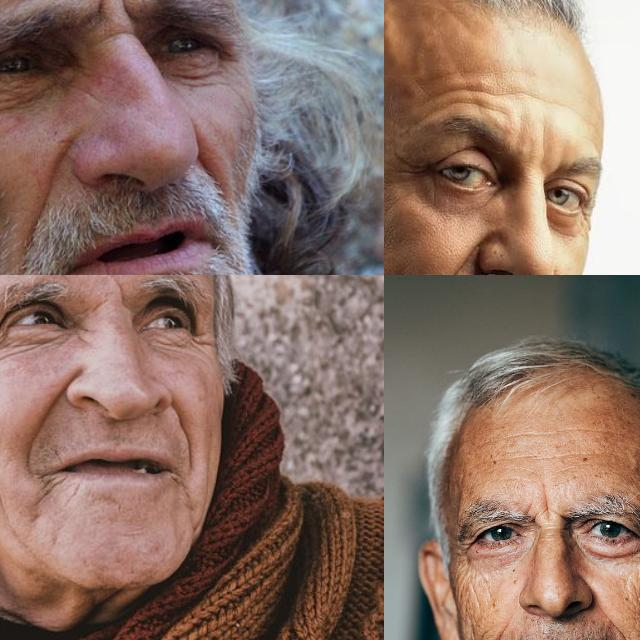crows_feet: (390, 153, 430, 184), (188, 331, 210, 363), (576, 198, 592, 236)
forehead: (433, 77, 519, 113), (522, 85, 574, 113), (516, 449, 574, 469), (580, 418, 616, 444), (518, 428, 566, 444)
frown_line: (532, 121, 550, 179), (89, 0, 132, 22), (535, 487, 557, 521), (112, 278, 128, 310)
gummy_smile: (24, 389, 60, 458), (33, 142, 65, 212), (170, 404, 196, 462), (442, 235, 477, 275), (605, 611, 633, 640)
masseter: (456, 566, 480, 608), (0, 448, 10, 529), (200, 452, 212, 510), (626, 571, 640, 606)
sad_smile: (32, 471, 60, 497), (168, 467, 190, 497)
